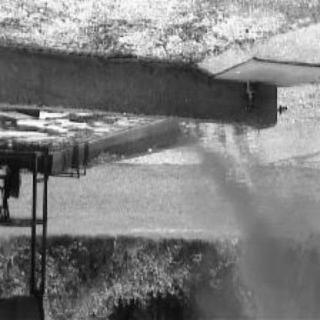Fire: (181, 121, 267, 196)
Smoke: (196, 200, 320, 320)
